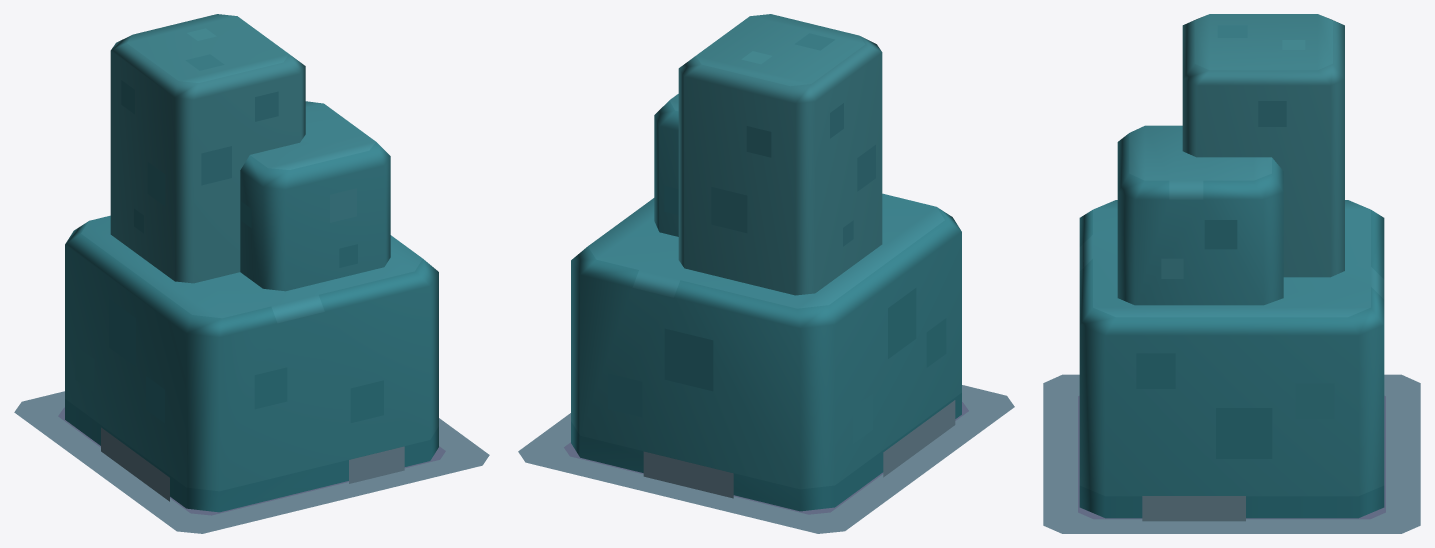
File: B_mountain2_rock01.fbx
3 renders of one model, left to right at view 1: azimuth 30°, elevation 25°; view 2: azimuth 150°, elevation 25°; view 3: azimuth 270°, elevation 25°, orthographic. The views are drawn at different scales.
Parts seen in each view (by area): view 1: model 1, model; view 2: model 1, model; view 3: model 1, model.
Part boxes in pixels (box(x1,y1,x2,y2)): model 1: box(14, 14, 489, 533); model: box(14, 391, 489, 533); model 1: box(518, 14, 1014, 533); model: box(518, 385, 1014, 533); model 1: box(1043, 14, 1420, 532); model: box(1043, 374, 1420, 533).
Bounding box in the file's own units: 3.39 × 3.98 × 3.39.
